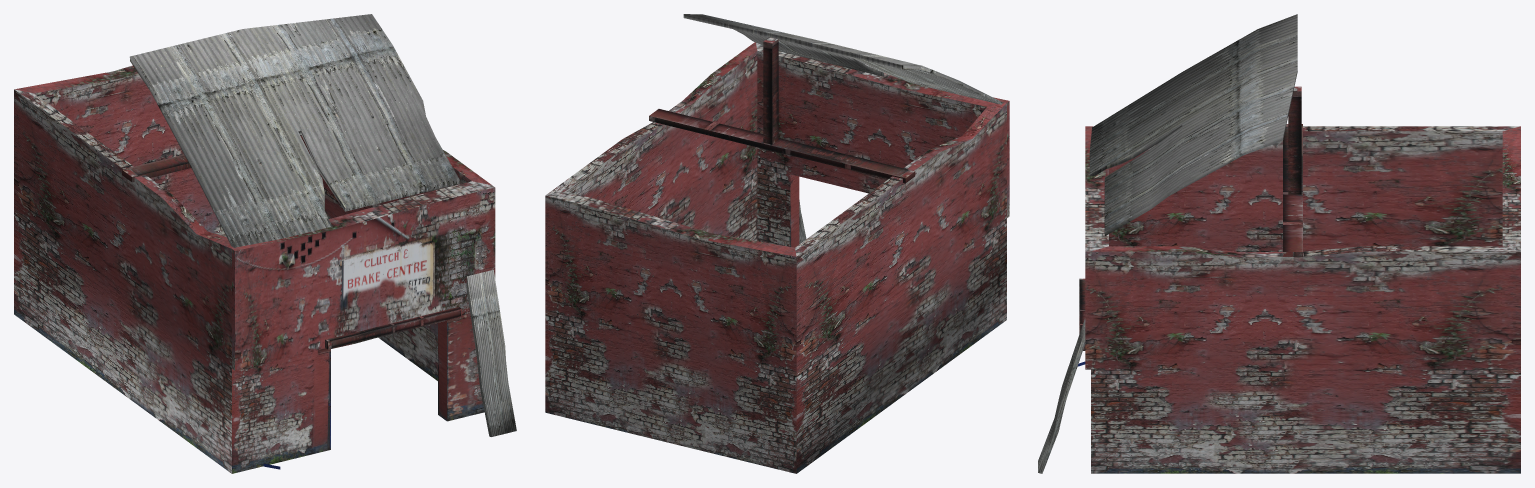
File: building3.obj
3 renders of one model, left to right at view 1: azimuth 30°, elevation 25°; view 2: azimuth 150°, elevation 25°; view 3: azimuth 270°, elevation 25°, orthographic. The views are drawn at different scales.
Visible parts, largest first — view 1: material29; view 2: material29; view 3: material29.
Boxes of the visible parts, x1,y1,x2,y2 form: material29: (14,14,516,473); material29: (545,14,1009,473); material29: (1038,14,1520,473).
Bounding box in the file's own units: 231 × 283 × 368.
1 material, 1 textured.
